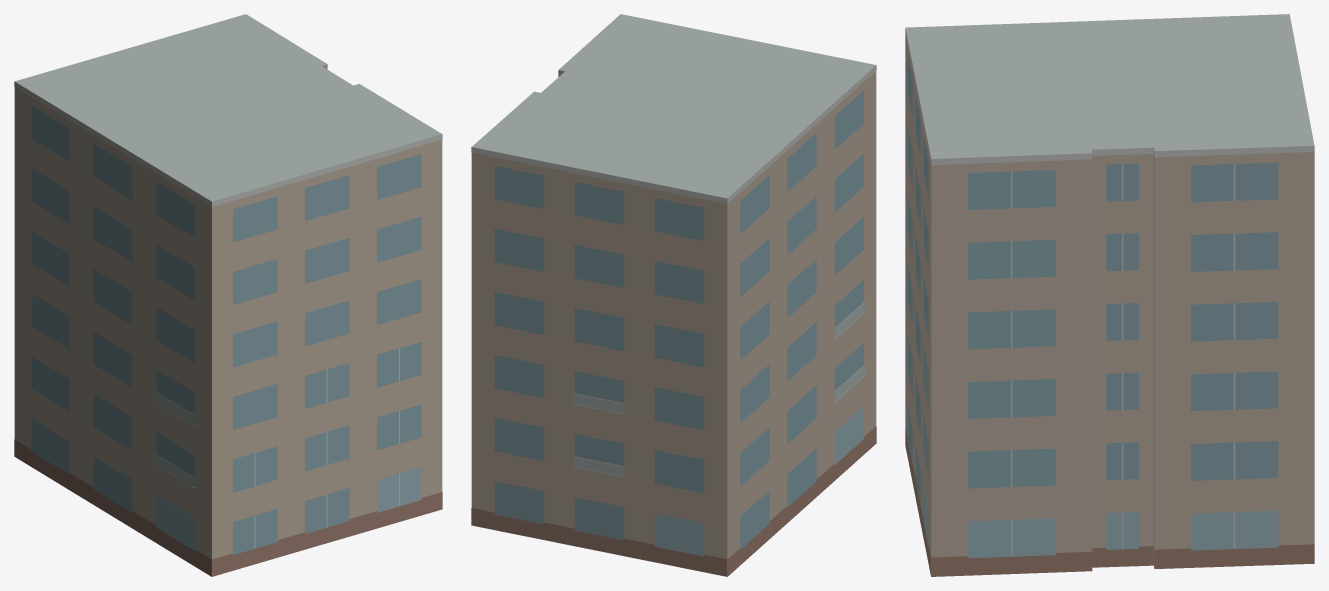
Rendered from survey-upis-32723993.glb.
The picture shows the model from 3 angles, left to right: view 1: azimuth 30°, elevation 25°; view 2: azimuth 150°, elevation 25°; view 3: azimuth 270°, elevation 25°; orthographic projection. The views are drawn at different scales.
Visible parts, largest first — view 1: survey-upis-32723993.tmp; view 2: survey-upis-32723993.tmp; view 3: survey-upis-32723993.tmp.
Boxes of the visible parts, left/top/right/bottom form: survey-upis-32723993.tmp: left=14, top=14, right=442, bottom=576; survey-upis-32723993.tmp: left=471, top=14, right=876, bottom=576; survey-upis-32723993.tmp: left=905, top=14, right=1314, bottom=576.
Bounding box in the file's own units: 12.44 × 16.7 × 14.83.
